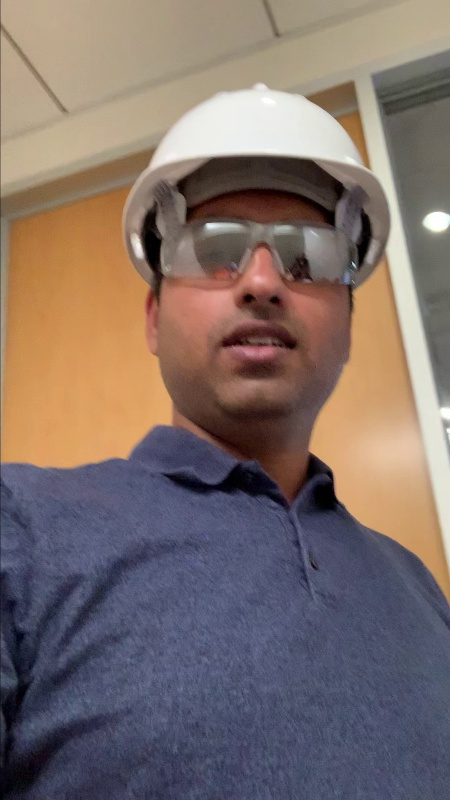glasses: (160, 217, 363, 284)
helmet: (140, 82, 377, 175)
